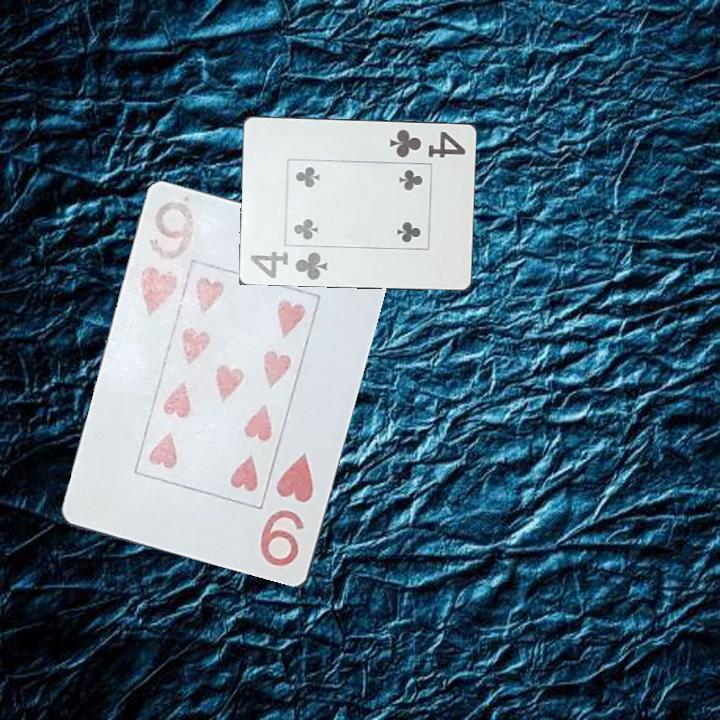4c: (386, 125, 468, 161), (247, 248, 331, 282)
9h: (132, 195, 198, 320), (256, 449, 317, 570)
